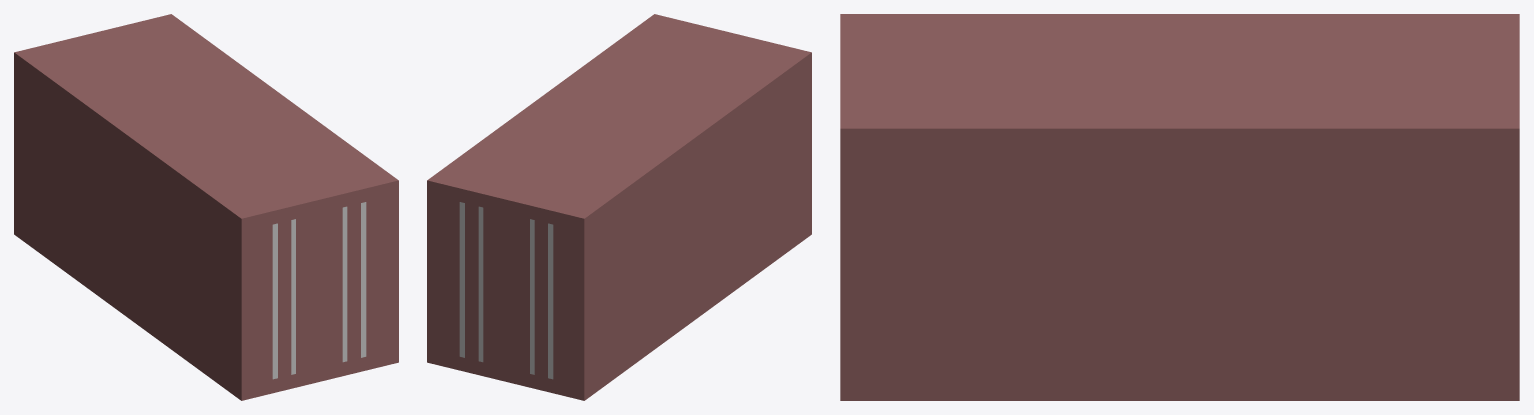
File: Container.fbx
3 views of the same model, side by side, from view 1: azimuth 30°, elevation 25°; view 2: azimuth 150°, elevation 25°; view 3: azimuth 270°, elevation 25° (orthographic). The views are drawn at different scales.
Visible parts, largest first — view 1: LowPoly; view 2: LowPoly; view 3: LowPoly.
Part boxes in pixels (left/top/right/bottom): LowPoly: left=14, top=14, right=398, bottom=400; LowPoly: left=427, top=14, right=811, bottom=400; LowPoly: left=840, top=14, right=1519, bottom=400.
Size of the model in its own units: 61.42 by 67.98 by 154.
